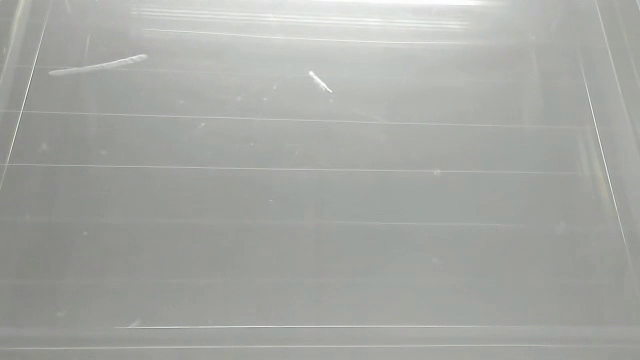alpha: (46, 52, 150, 81), (305, 64, 335, 96), (125, 315, 145, 333)
